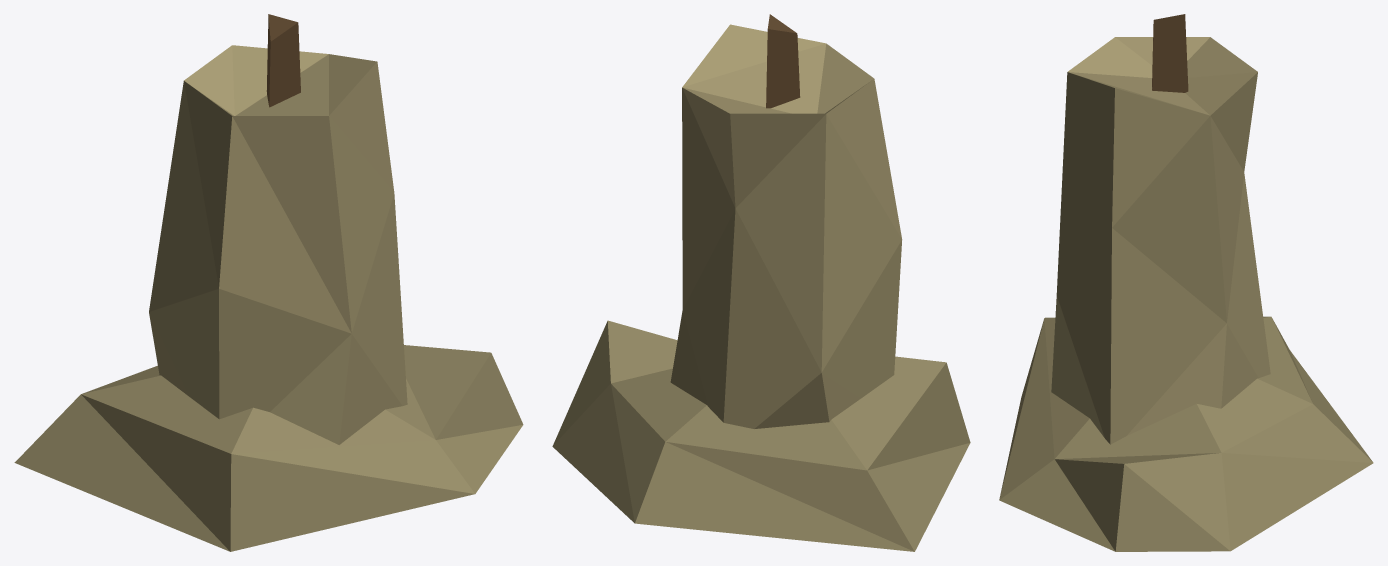
The model's file is candle_01.fbx.
3 views of the same model, side by side, from view 1: azimuth 30°, elevation 25°; view 2: azimuth 150°, elevation 25°; view 3: azimuth 270°, elevation 25° (orthographic).
Visible parts, largest first — view 1: candle_01; view 2: candle_01; view 3: candle_01.
Boxes of the visible parts, x1,y1,x2,y2 form: candle_01: (14, 14, 523, 551); candle_01: (552, 14, 970, 551); candle_01: (999, 14, 1373, 551).
Bounding box in the file's own units: 1.36 × 1.39 × 1.06.
